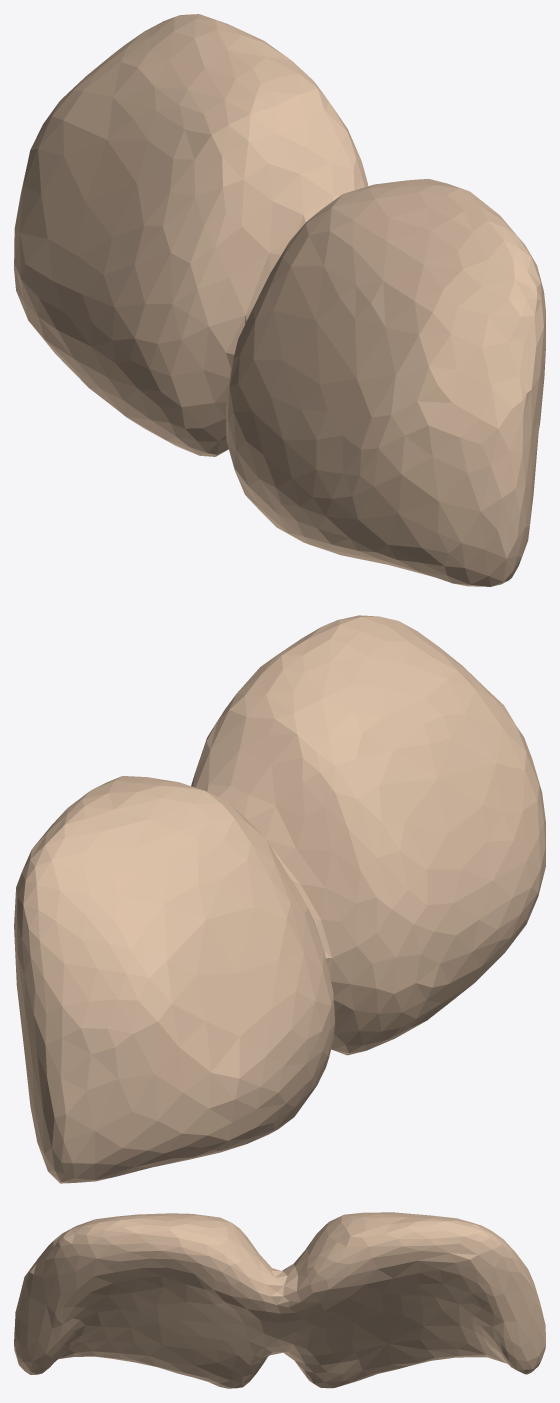
The picture shows the model from 3 angles, top to bottom: view 1: azimuth 30°, elevation 25°; view 2: azimuth 150°, elevation 25°; view 3: azimuth 270°, elevation 25°; orthographic projection. The views are drawn at different scales.
Parts seen in each view (by area): view 1: 931.obj; view 2: 931.obj; view 3: 931.obj.
Boxes of the visible parts, box(x1,y1,x2,y2) form: 931.obj: box(14, 14, 545, 586); 931.obj: box(14, 615, 545, 1183); 931.obj: box(14, 1212, 545, 1388).
Bounding box in the file's own units: 787 × 1096 × 2659.
